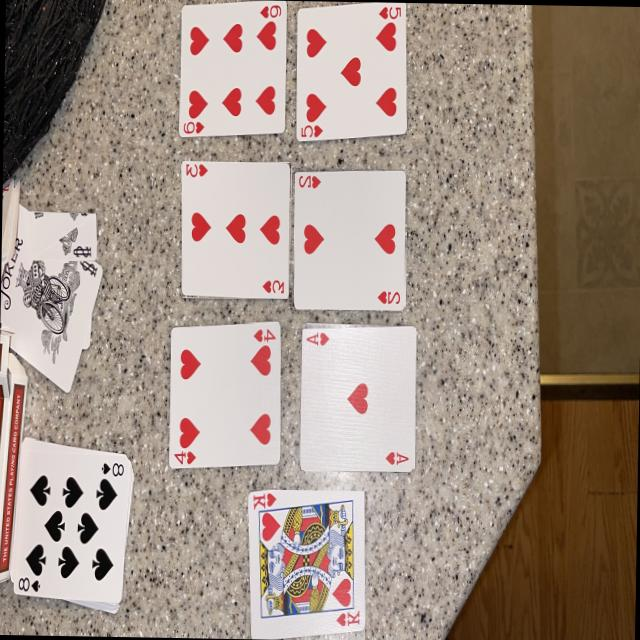2 of hearts: (294, 168, 406, 310)
3 of hearts: (181, 160, 290, 297)
4 of hearts: (169, 322, 281, 466)
5 of hearts: (296, 1, 407, 140)
6 of hearts: (178, 0, 286, 136)
8 of spades: (10, 438, 132, 608)
Ace of hearts: (301, 324, 415, 470)
Joker: (0, 208, 102, 391), (31, 212, 97, 260)
King of hearts: (248, 488, 365, 639)
